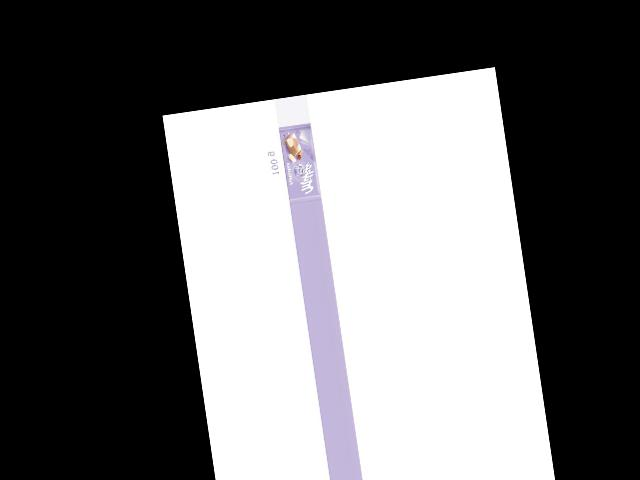chocolate: (273, 122, 322, 204)
